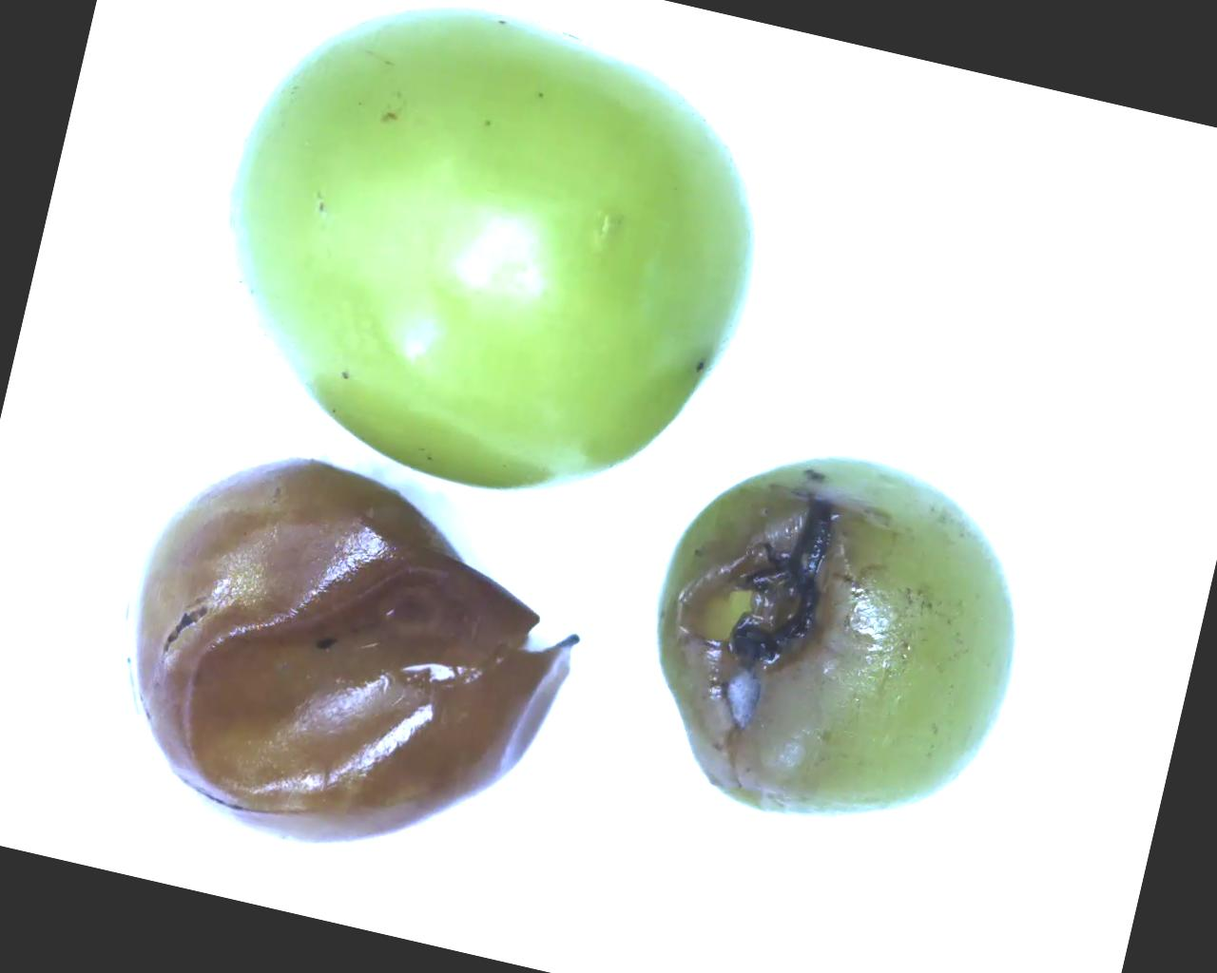Grape Rotten: (80, 420, 609, 896), (612, 413, 1053, 859)
Grape Unripe: (172, 0, 801, 539)
